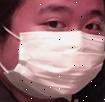with_mask: (1, 1, 105, 102)
